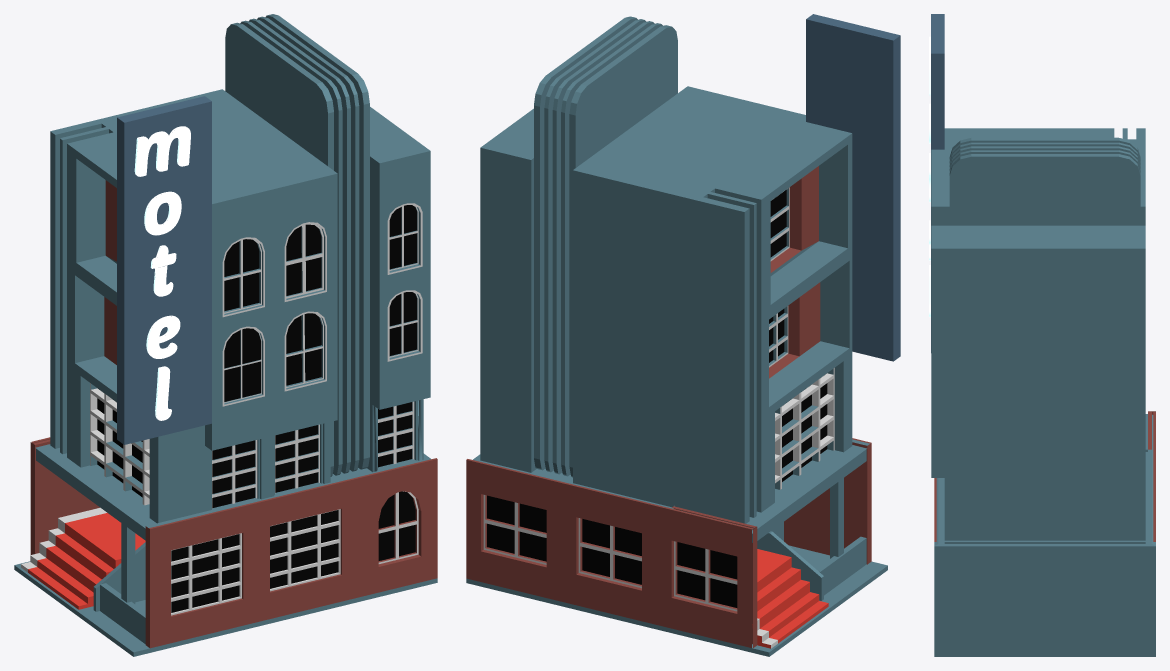
Rendered from motel.glb.
3 renders of one model, left to right at view 1: azimuth 30°, elevation 25°; view 2: azimuth 150°, elevation 25°; view 3: azimuth 270°, elevation 25°, orthographic. The views are drawn at different scales.
Parts seen in each view (by area): view 1: Object_59, Object_66; view 2: Object_59; view 3: Object_59, Object_66.
Boxes of the visible parts, left/top/right/bottom form: Object_59: left=14, top=14, right=437, bottom=656; Object_66: left=134, top=126, right=190, bottom=420; Object_59: left=466, top=14, right=900, bottom=656; Object_59: left=931, top=14, right=1155, bottom=656; Object_66: left=929, top=36, right=930, bottom=317.
Size of the model in its own units: 15.22 by 24.84 by 10.22.
2 materials, 2 textured.
